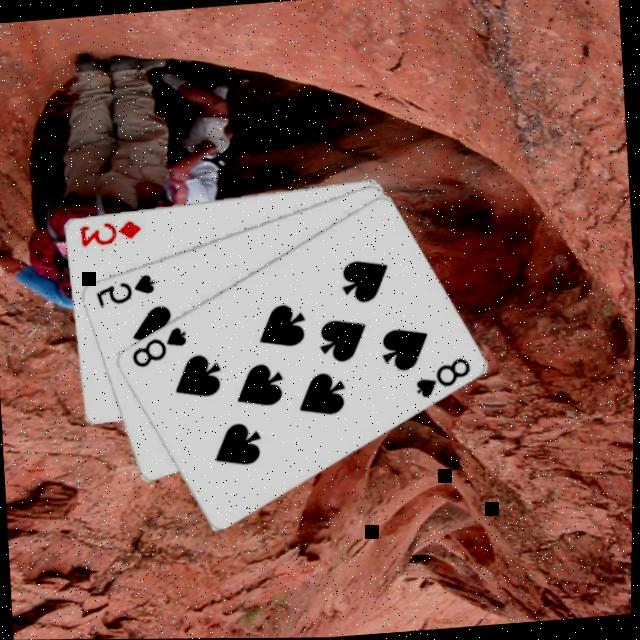3D: (74, 217, 144, 250)
5S: (90, 272, 156, 310)
8S: (124, 324, 190, 372), (408, 354, 474, 402)
